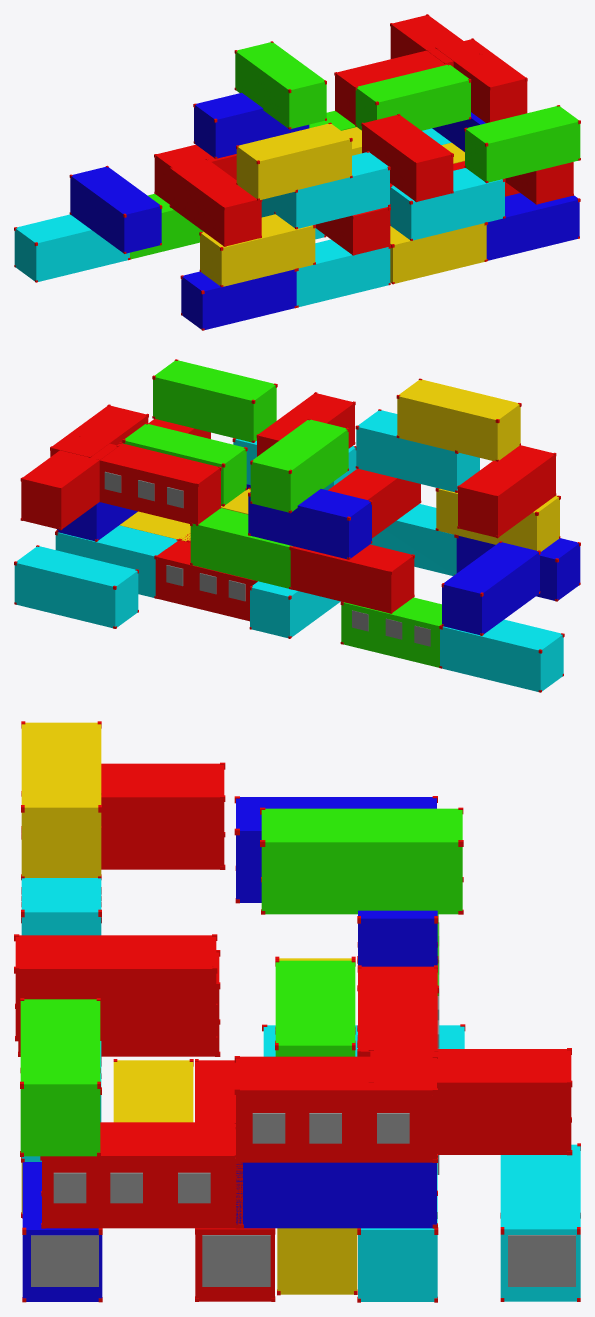
The model's file is ParentPart01FBX.FBX.
3 views of the same model, one above another, from view 1: azimuth 30°, elevation 25°; view 2: azimuth 150°, elevation 25°; view 3: azimuth 270°, elevation 25° (orthographic). The views are drawn at different scales.
Parts seen in each view (by area): view 1: ParentPart01; view 2: ParentPart01; view 3: ParentPart01.
Part boxes in pixels (bbox=[...]): ParentPart01: bbox=[14, 14, 580, 330]; ParentPart01: bbox=[14, 359, 580, 692]; ParentPart01: bbox=[14, 721, 580, 1302].
Size of the model in its own units: 30.11 by 17.35 by 9.79.
